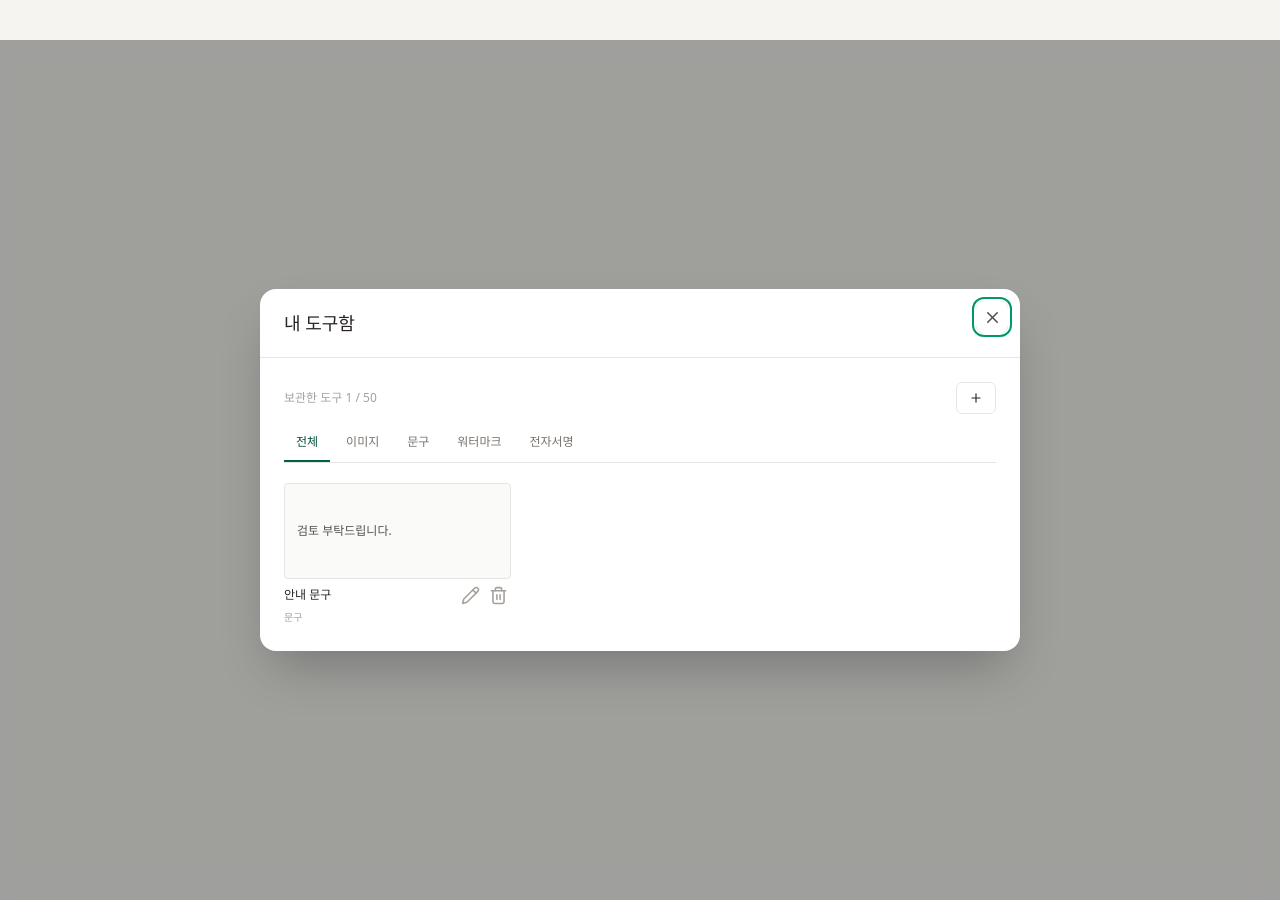
edits from the button beside delete, updates the same card and never applies it to a document
This screenshot has width=1280, height=900.
Step 1. Click the button named "안내 문구 수정" → (471, 595), box left=459, top=583, right=483, bottom=607
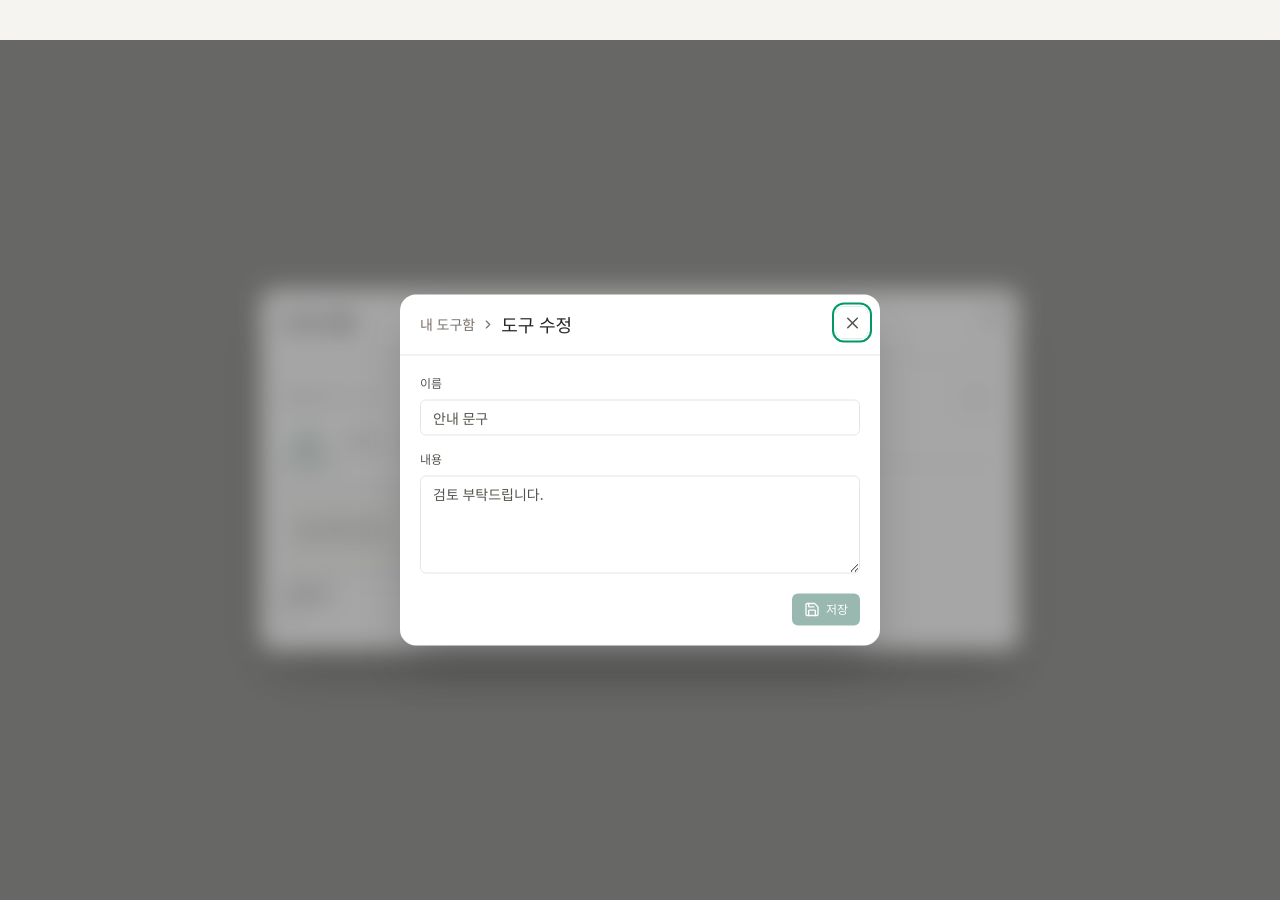
Expected: the field labelled "이름" holds "안내 문구"
Expected: the text box labelled "내용" holds "검토 부탁드립니다.", left=420, top=476, right=860, bottom=574
Expected: the button "저장" is disabled, left=792, top=594, right=860, bottom=626
Step 2. Replace the text in the field labelled "이름" with "수정한 문구" → (640, 418), box left=420, top=400, right=860, bottom=436
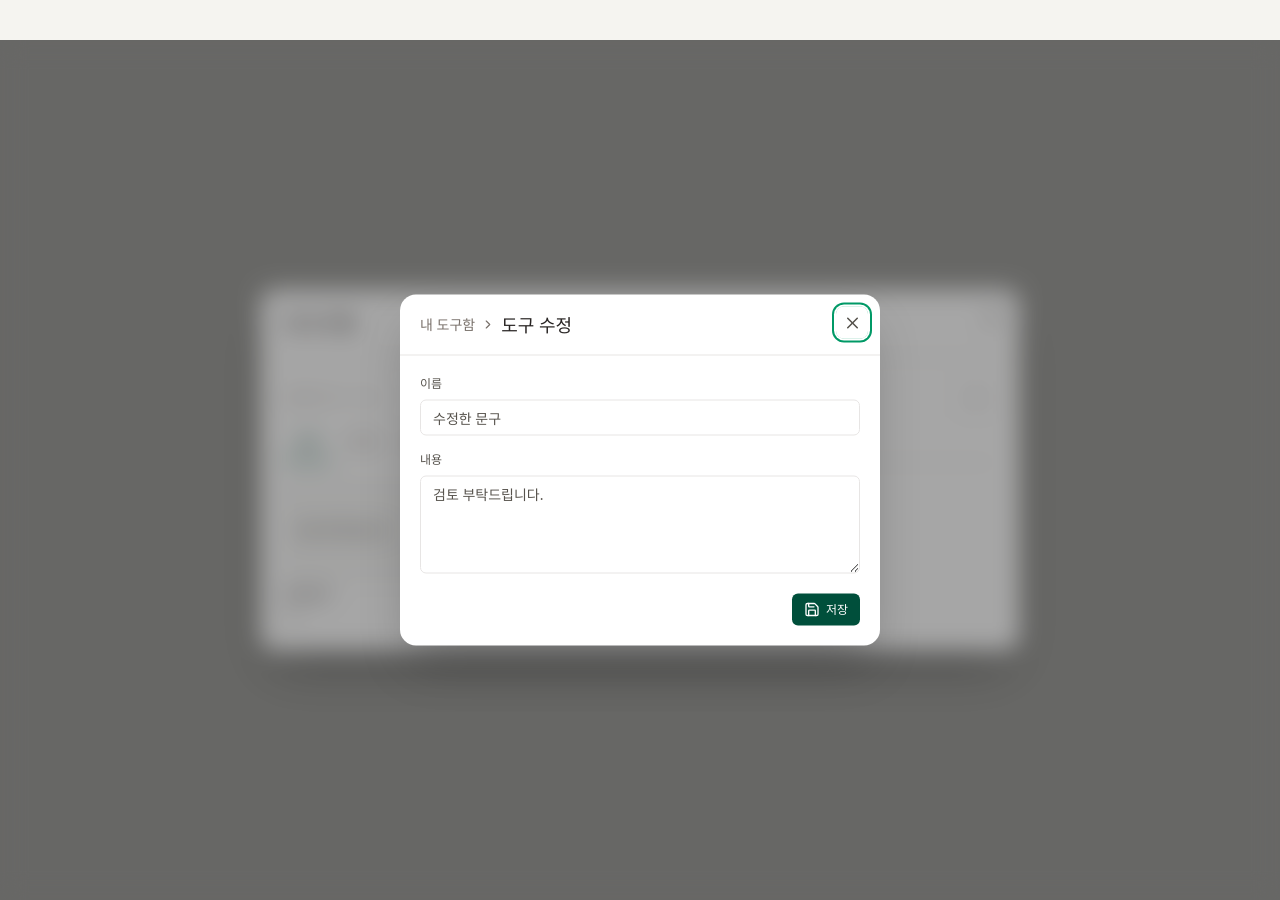
Step 3. Replace the text in the text box labelled "내용" with "바꾼 내용" → (640, 524), box left=420, top=476, right=860, bottom=574
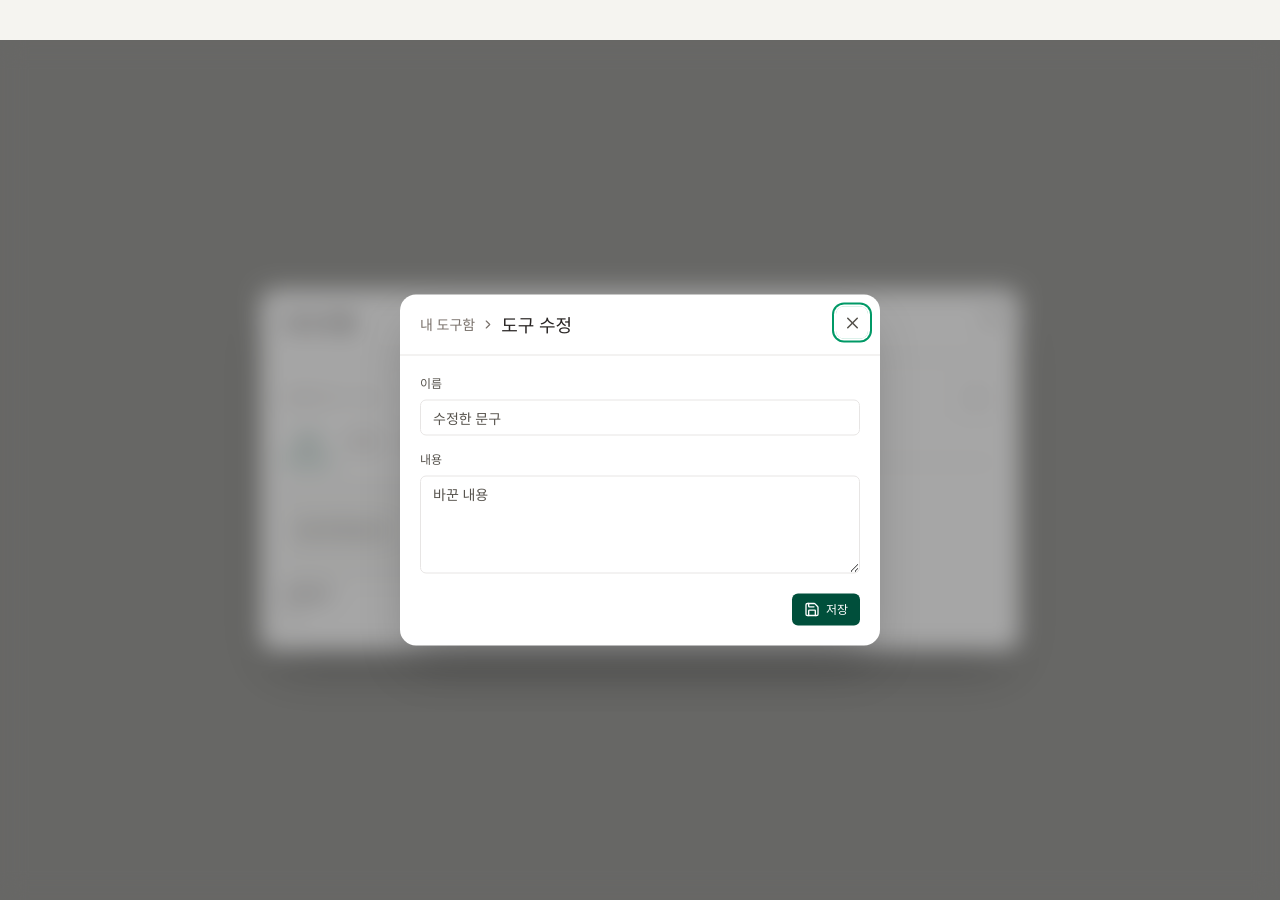
Step 4. Click the button "저장" → (826, 610), box left=792, top=594, right=860, bottom=626
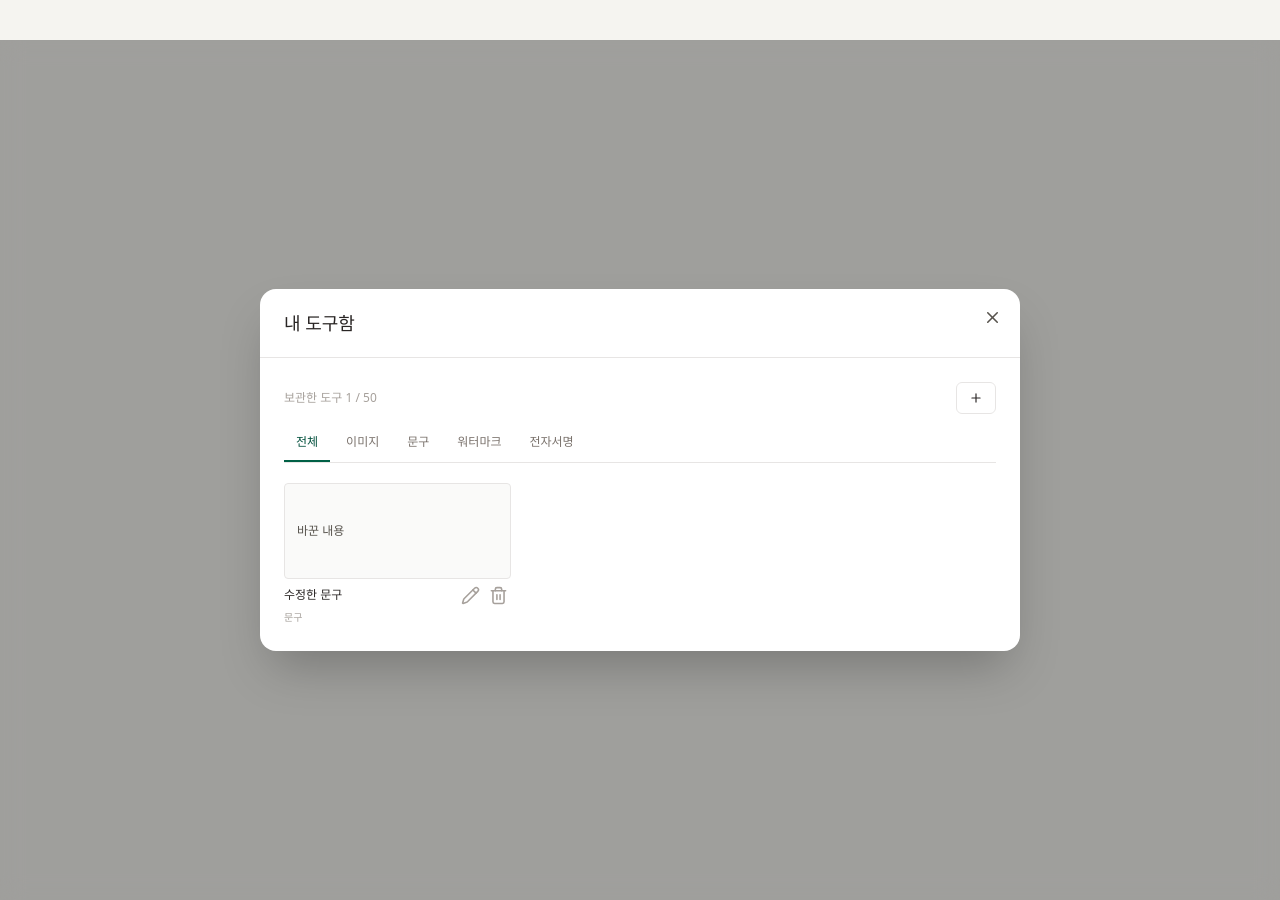
Expected: the heading "도구 수정" is gone
